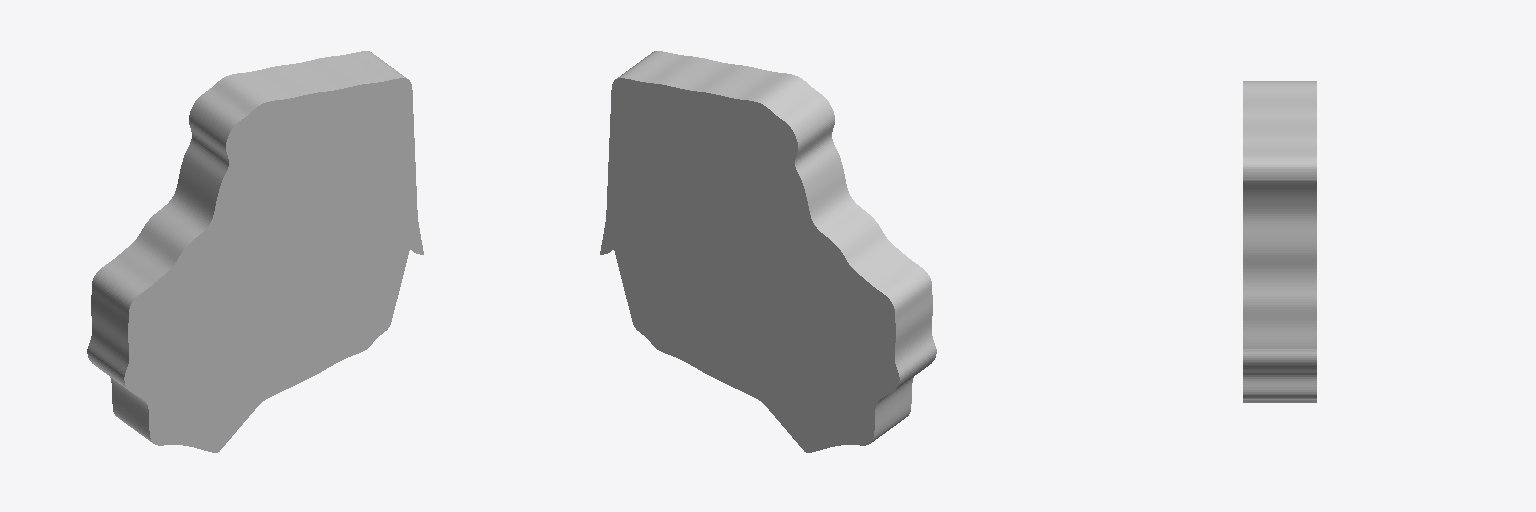
The picture shows the model from 3 angles: view 1: azimuth 30°, elevation 25°; view 2: azimuth 150°, elevation 25°; view 3: azimuth 270°, elevation 25°; orthographic projection.
Visible parts, largest first — view 1: 平面; view 2: 平面; view 3: 平面.
Boxes of the visible parts, <box> form: 平面: <box>87,51,423,452</box>; 平面: <box>600,51,936,452</box>; 平面: <box>1243,81,1316,402</box>.
Bounding box in the file's own units: 0.936 × 1.01 × 0.2.